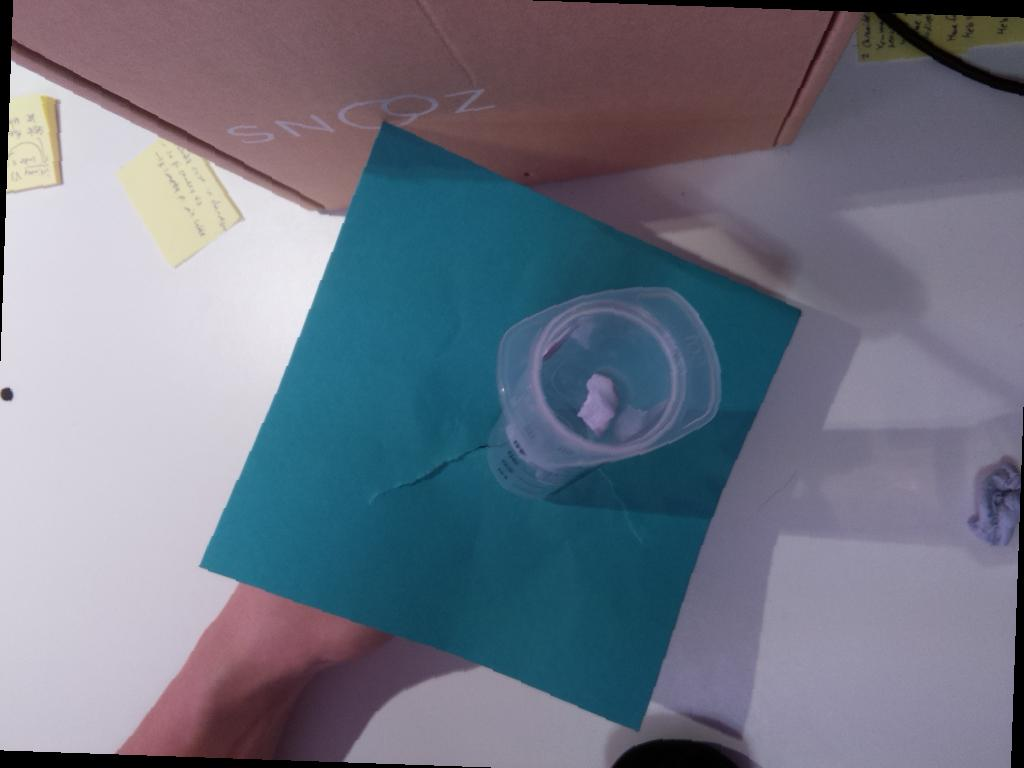dirty: (497, 286, 723, 469)
